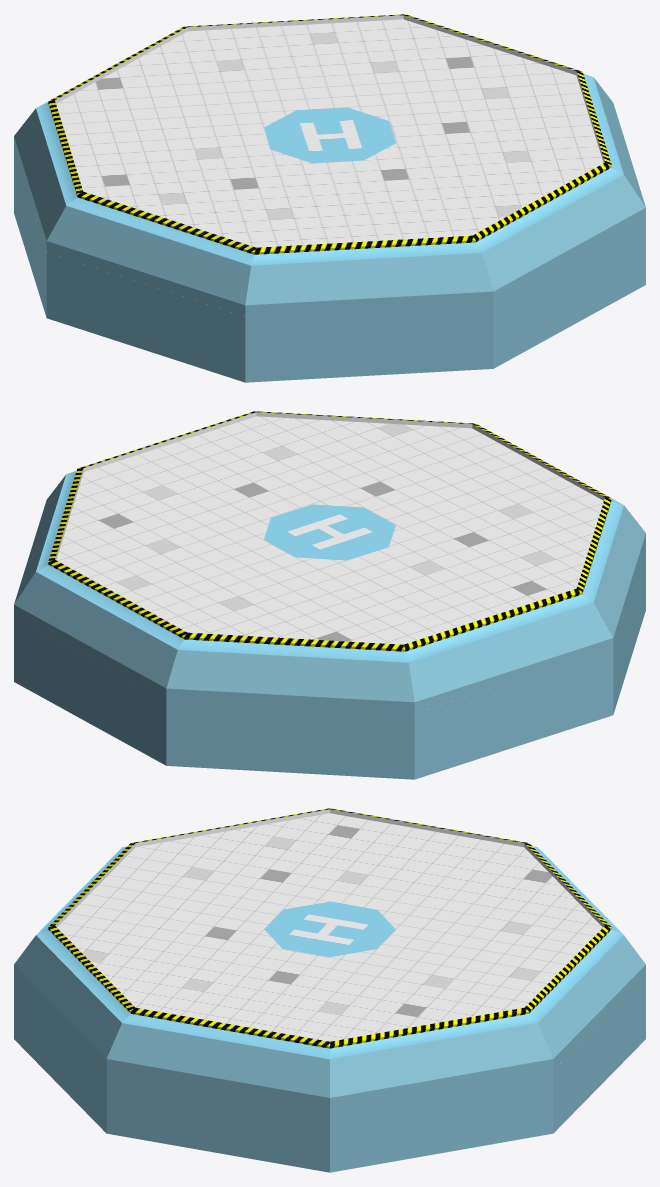
Rendered from building7.fbx.
3 views of the same model, one above another, from view 1: azimuth 30°, elevation 25°; view 2: azimuth 150°, elevation 25°; view 3: azimuth 270°, elevation 25° (orthographic). The views are drawn at different scales.
Parts seen in each view (by area): view 1: building, floor; view 2: building, floor; view 3: building, floor.
Part boxes in pixels (left/top/right/bottom): building: left=14, top=14, right=645, bottom=382; floor: left=56, top=19, right=603, bottom=247; building: left=14, top=411, right=645, bottom=779; floor: left=56, top=416, right=603, bottom=644; building: left=14, top=808, right=645, bottom=1172; floor: left=57, top=813, right=602, bottom=1041.
Bounding box in the file's own units: 44.75 × 8.88 × 44.75.
1 material, 1 textured.
